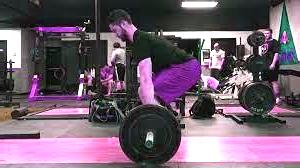Barbell: (143, 139, 152, 149)
